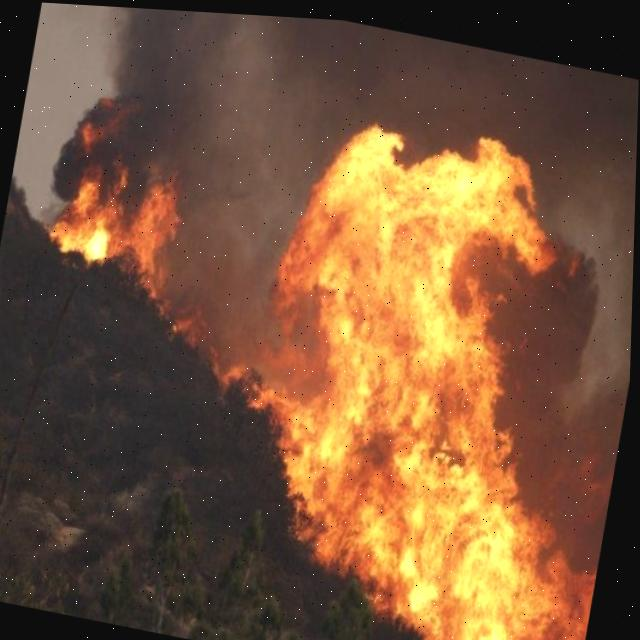fire: (264, 118, 544, 580), (464, 485, 610, 640), (67, 166, 166, 267)
smoke: (494, 159, 637, 505), (101, 6, 348, 199), (336, 18, 639, 170), (155, 177, 289, 339)
